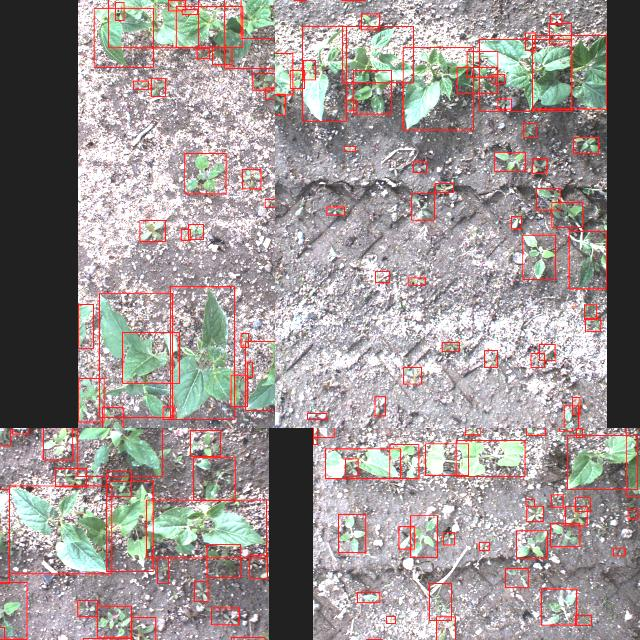crop: (98, 292, 172, 418), (8, 485, 112, 573), (170, 286, 234, 418), (146, 499, 266, 557), (478, 38, 572, 110), (402, 47, 473, 129), (532, 34, 606, 108), (108, 0, 198, 47), (106, 481, 152, 571), (301, 26, 345, 120), (76, 428, 161, 476), (342, 26, 412, 82), (567, 435, 637, 489), (93, 8, 153, 66), (224, 0, 275, 67), (122, 332, 178, 382), (175, 6, 242, 46), (456, 440, 524, 476), (324, 448, 400, 478), (245, 340, 275, 409), (240, 0, 275, 38), (424, 444, 468, 474), (388, 444, 418, 478), (625, 428, 640, 495), (275, 52, 292, 94), (78, 303, 92, 347)
weed: (568, 230, 606, 288), (193, 456, 235, 499), (184, 153, 226, 193), (353, 69, 391, 113), (522, 234, 556, 278), (0, 581, 26, 638), (540, 588, 576, 624), (77, 377, 103, 421), (409, 515, 436, 557), (206, 544, 240, 576), (96, 606, 132, 636), (457, 67, 498, 93), (337, 514, 365, 552), (42, 428, 72, 459), (428, 582, 452, 620), (516, 530, 546, 558), (190, 429, 220, 455), (467, 52, 498, 76), (552, 202, 582, 226), (550, 522, 580, 546), (106, 470, 132, 496), (411, 192, 434, 220), (130, 616, 155, 640), (230, 374, 248, 406), (494, 152, 526, 170), (54, 468, 86, 486), (140, 219, 164, 241), (536, 187, 560, 209), (549, 22, 571, 44), (435, 615, 454, 640), (101, 406, 122, 428), (211, 608, 239, 624), (565, 505, 587, 525), (249, 554, 267, 578), (504, 568, 528, 586), (252, 72, 274, 90), (574, 137, 598, 153), (242, 168, 260, 188), (212, 46, 232, 64), (563, 404, 578, 428), (398, 526, 414, 548), (403, 366, 421, 384), (360, 13, 380, 29), (77, 600, 97, 616), (156, 557, 168, 583), (150, 78, 166, 96), (288, 70, 304, 88), (526, 505, 544, 521), (194, 581, 208, 601), (539, 343, 555, 359), (344, 458, 358, 476), (302, 59, 314, 79), (356, 592, 379, 602), (530, 352, 544, 368), (574, 497, 590, 511), (484, 349, 496, 366), (374, 396, 384, 416), (434, 182, 454, 192), (188, 224, 202, 238), (532, 158, 546, 172), (585, 318, 601, 330), (275, 93, 284, 114), (525, 32, 535, 50), (168, 0, 185, 10), (375, 270, 389, 282), (584, 304, 596, 318), (412, 160, 426, 172), (524, 123, 536, 137), (312, 428, 333, 436), (115, 2, 124, 20), (441, 342, 459, 351), (575, 615, 591, 625), (0, 428, 9, 445), (162, 406, 174, 418), (572, 396, 580, 414), (326, 206, 344, 214), (442, 532, 454, 544), (551, 494, 563, 506), (497, 98, 511, 108), (525, 428, 544, 435), (264, 87, 275, 99), (132, 80, 148, 88), (180, 228, 190, 240), (196, 48, 208, 58), (306, 413, 326, 419), (511, 216, 521, 228), (492, 73, 504, 83), (550, 14, 562, 24), (240, 333, 248, 347), (345, 100, 355, 110), (628, 508, 638, 518), (408, 278, 424, 284), (613, 547, 625, 555), (464, 428, 479, 434), (264, 199, 275, 207), (246, 362, 252, 376), (182, 8, 196, 14), (12, 428, 28, 433), (478, 542, 488, 550), (313, 428, 317, 444), (526, 498, 534, 506), (386, 616, 394, 622), (576, 428, 582, 436), (344, 146, 354, 150), (558, 428, 571, 430)
